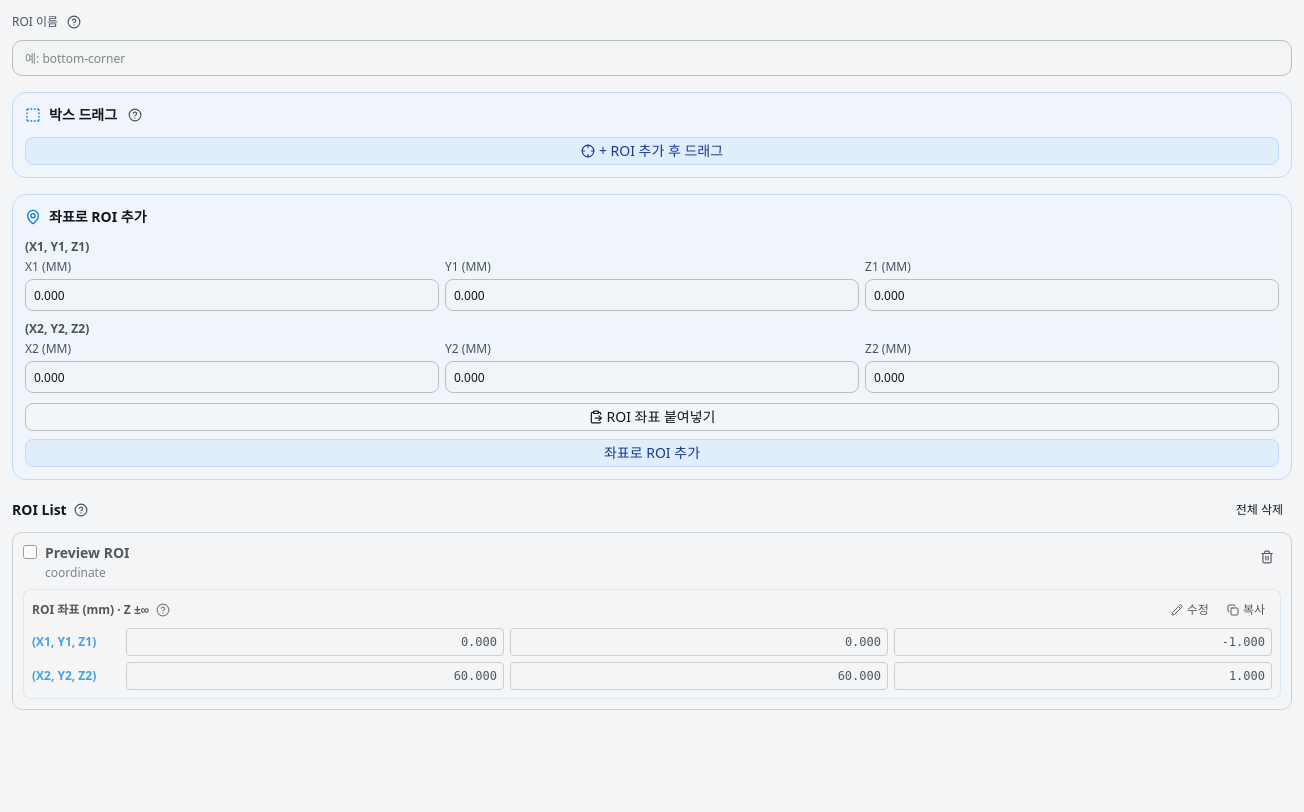
Test: edits automatic ROI bounds in place, recomputes faces at all Z depths and retains viewing metadata
Click the button with aria-label "Preview ROI ROI 좌표 수정": [1190, 610] box [1164,598,1216,622]
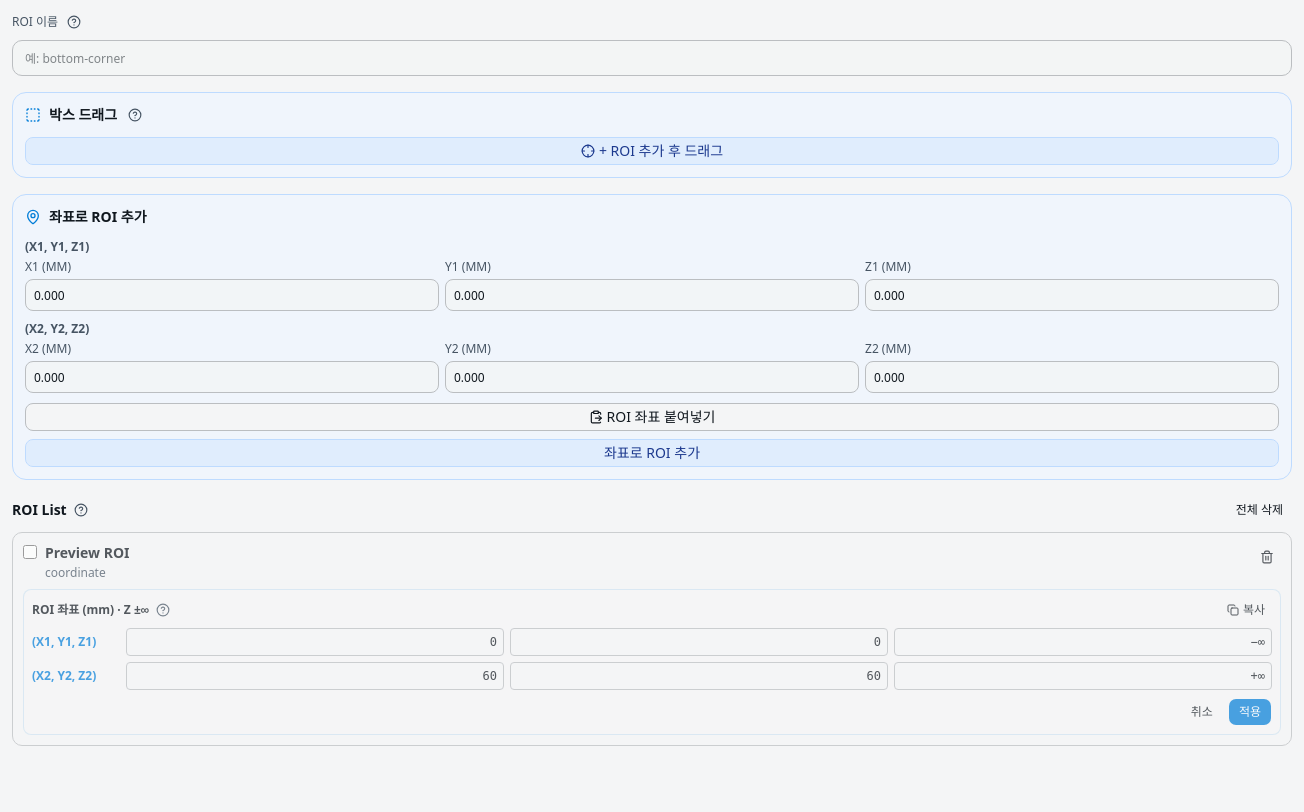
Now the field named "Preview ROI Z1" holds "−∞", box [894,628,1272,656]
Replace the text in the field named "Preview ROI X1" with "5": [315, 642] box [126,628,504,656]
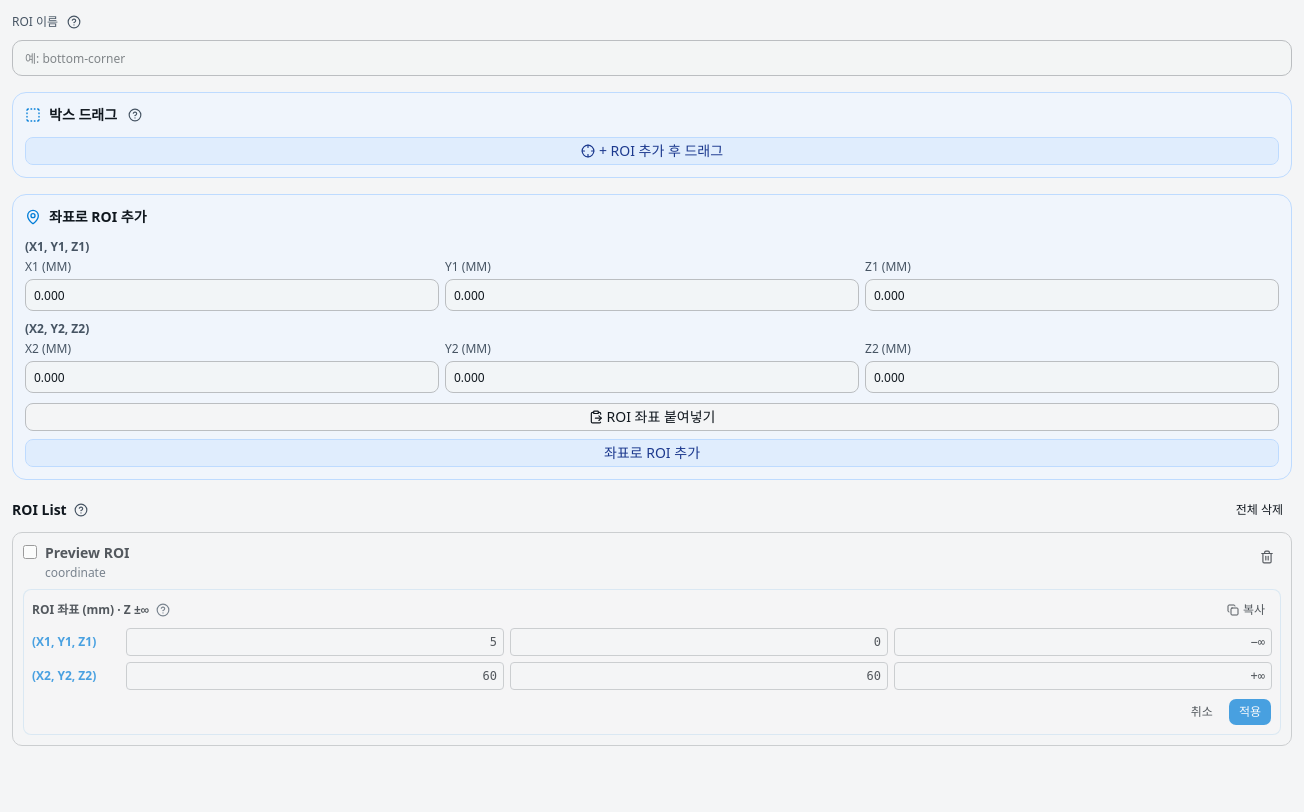
Replace the text in the field named "Preview ROI Y1" with "5": [699, 642] box [510,628,888,656]
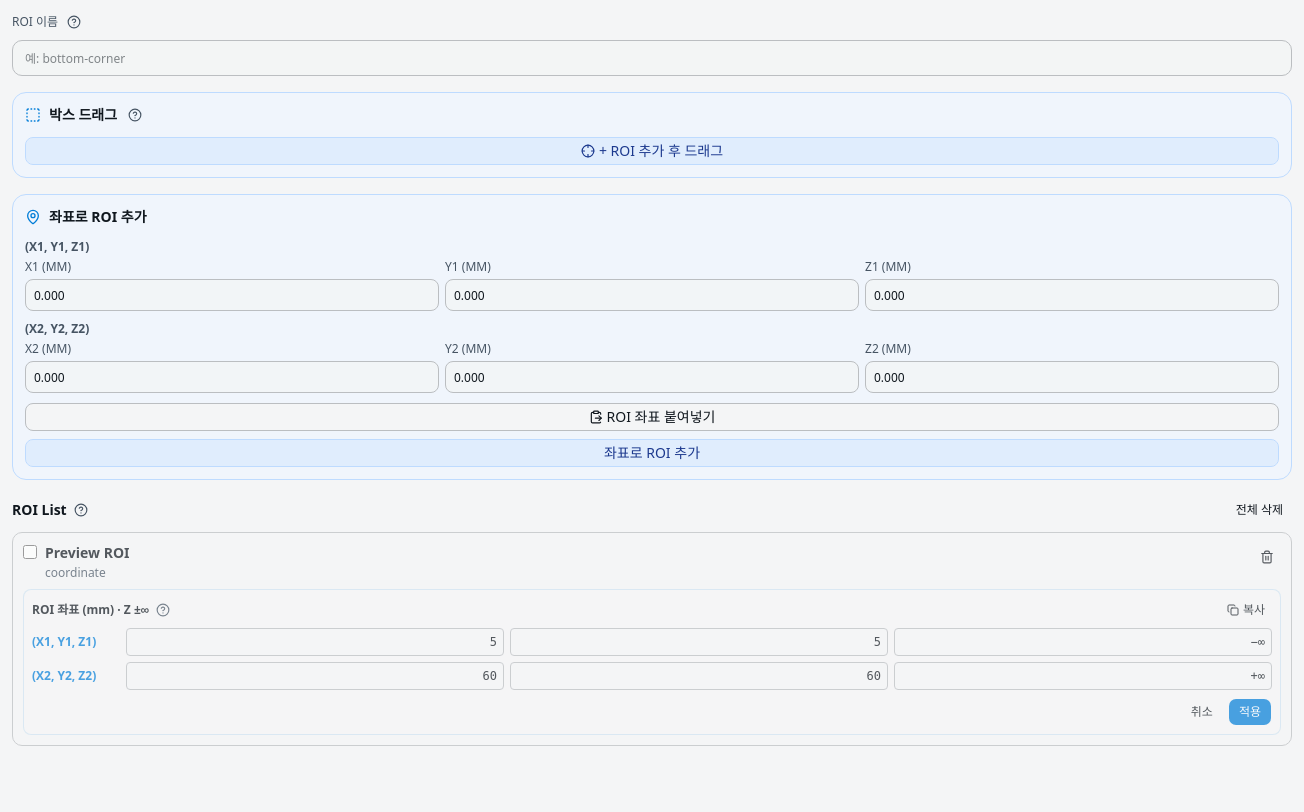
Replace the text in the field named "Preview ROI X2" with "55": [315, 676] box [126,662,504,690]
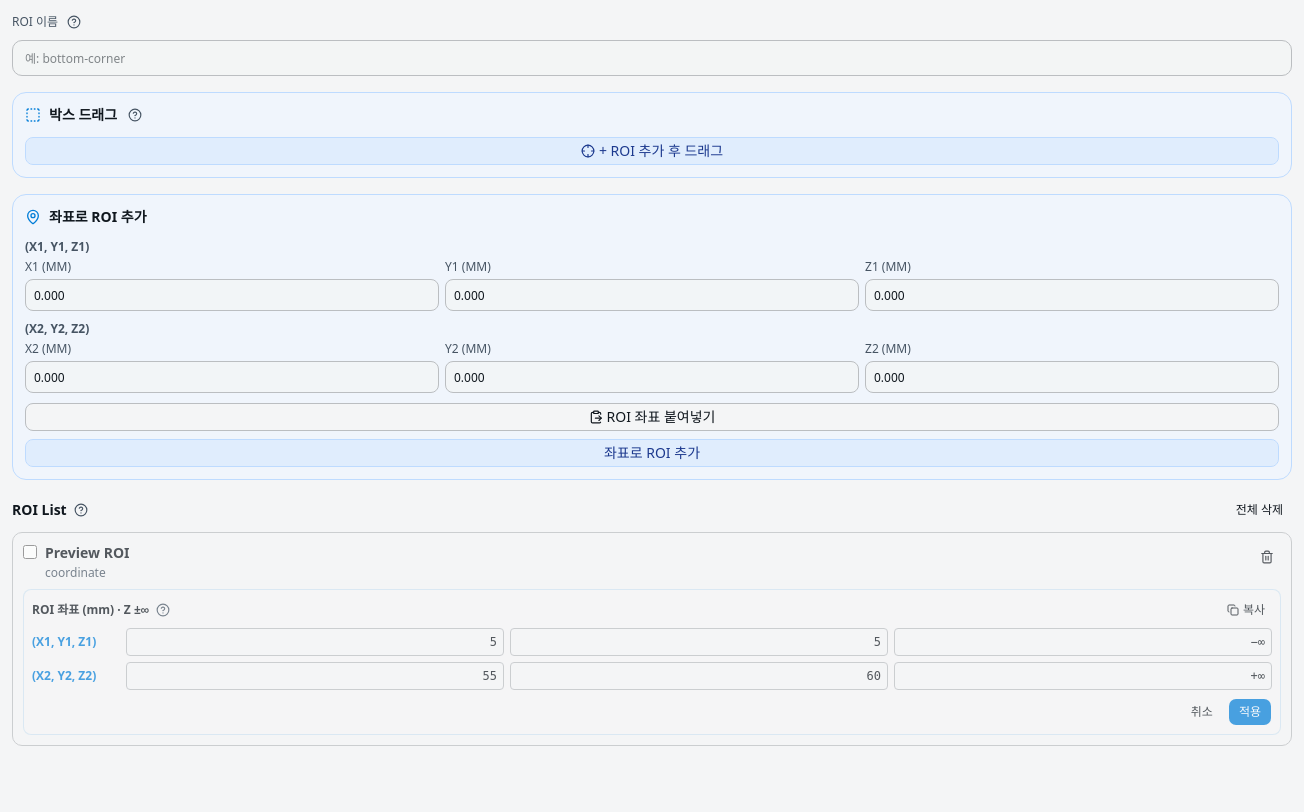
Replace the text in the field named "Preview ROI Y2" with "55": [699, 676] box [510,662,888,690]
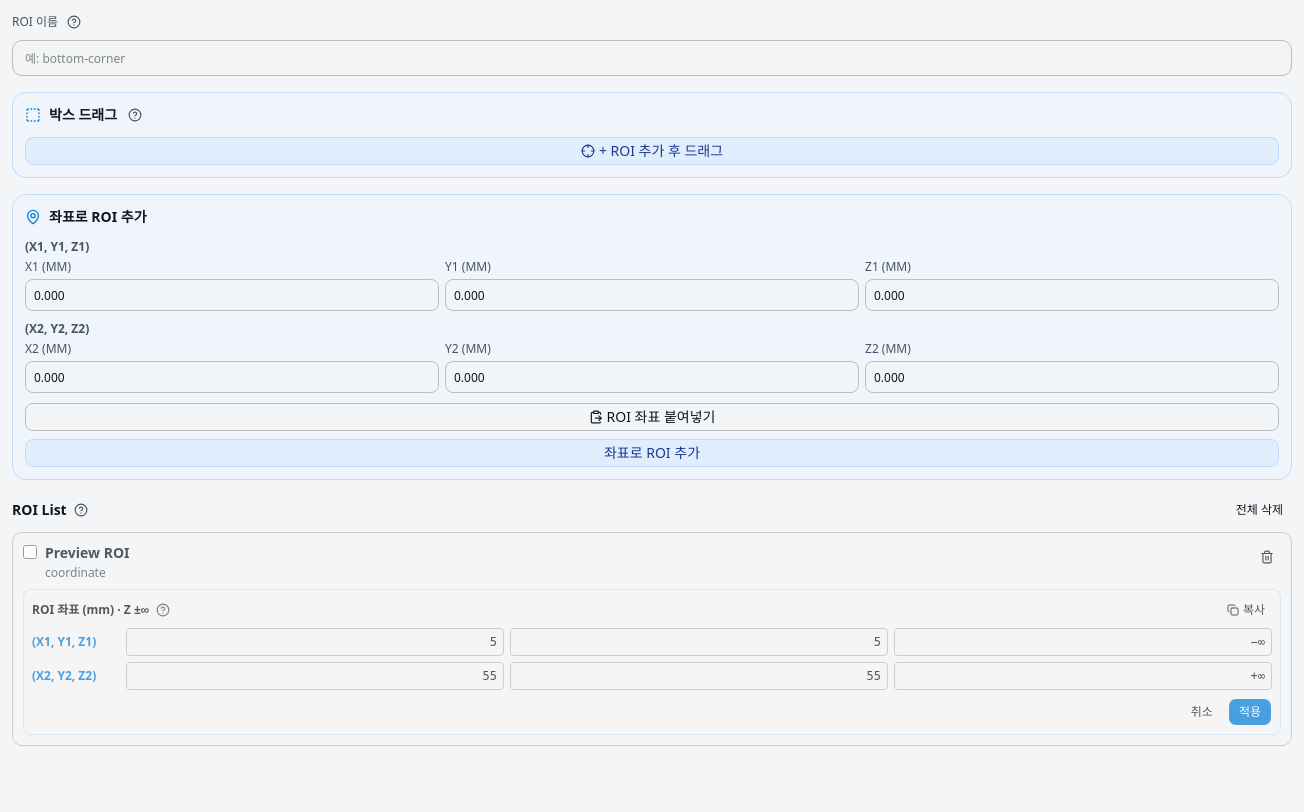
Click the button with aria-label "Preview ROI 좌표 적용": [1250, 712] box [1228,698,1272,726]
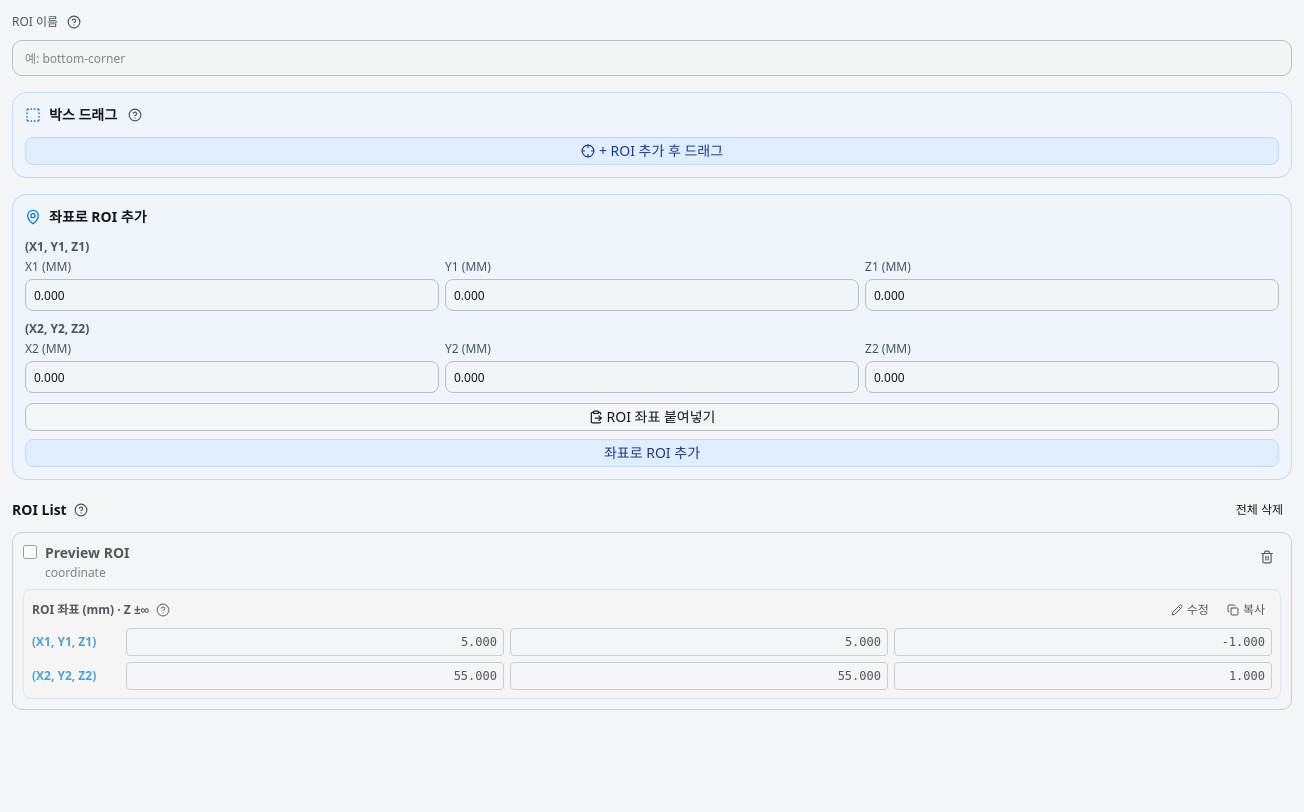
Now the field named "Preview ROI X1" holds "5.000", box [126,628,504,656]
